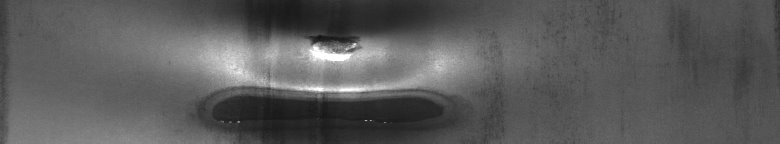ke: (208, 28, 452, 136)
